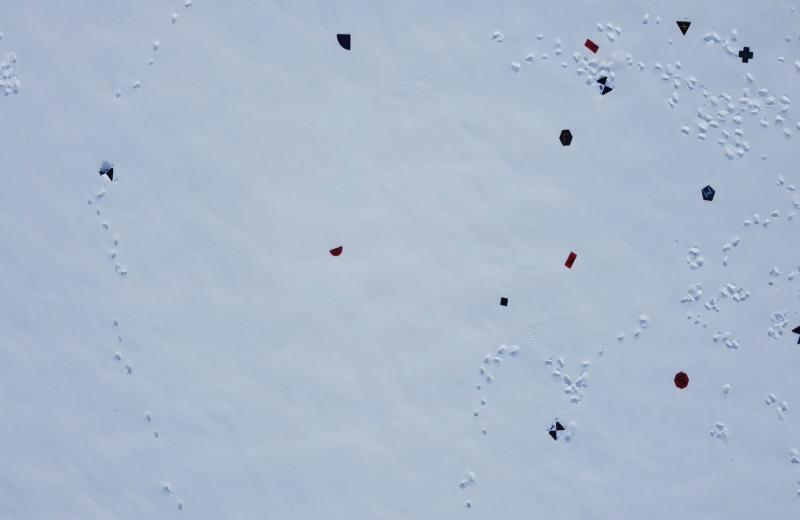Cross: (737, 45, 754, 65)
Hexagon: (558, 128, 574, 148)
Octagon: (674, 371, 690, 390)
Pentagon: (701, 184, 716, 202)
Quarter Circle: (336, 32, 352, 52)
Rectangle: (584, 38, 600, 54), (564, 251, 577, 270)
Semi Circle: (329, 245, 343, 257)
Square: (500, 295, 509, 308)
Triangle: (675, 20, 692, 37)
